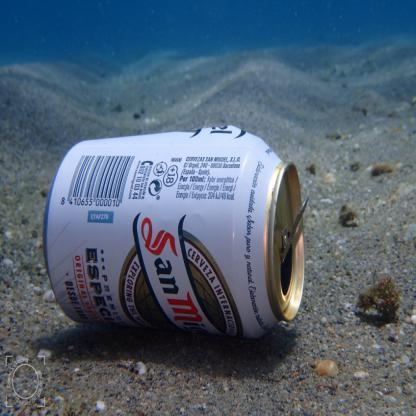can: (45, 125, 310, 334)
